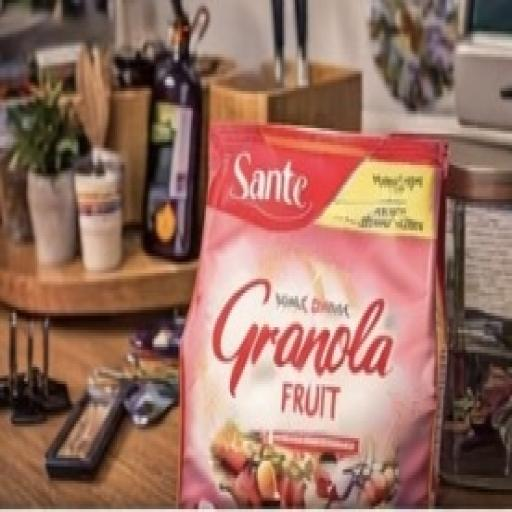granola: (166, 99, 468, 502)
